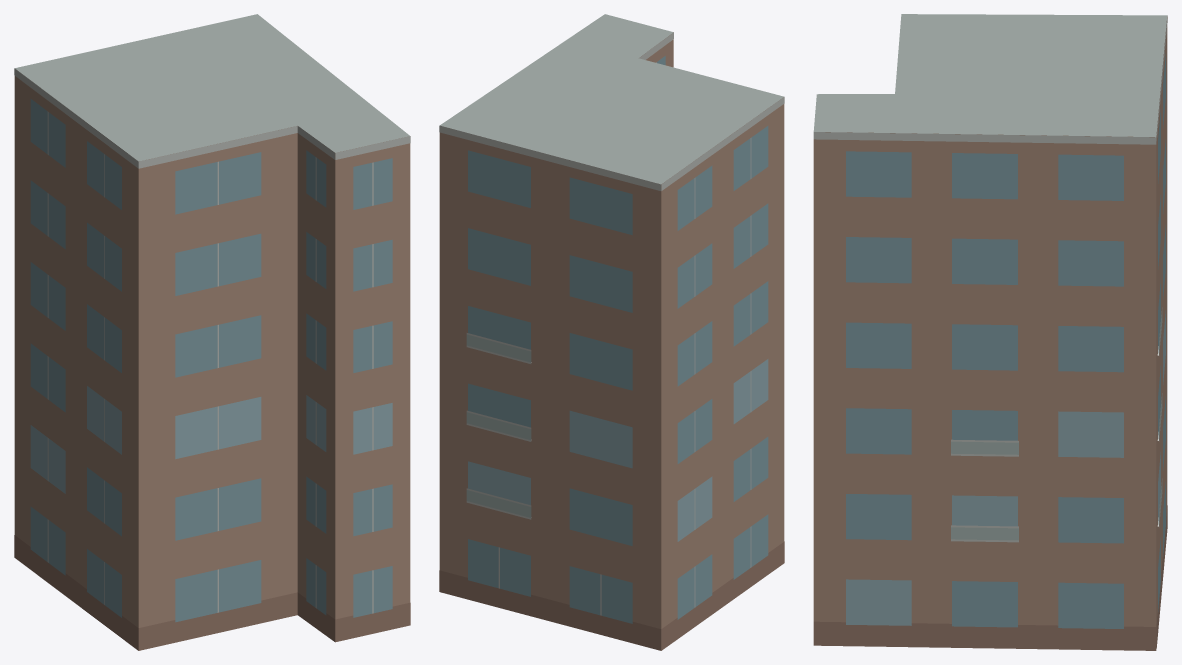
Rendered from survey-upis-32471747.glb.
The picture shows the model from 3 angles, left to right: view 1: azimuth 30°, elevation 25°; view 2: azimuth 150°, elevation 25°; view 3: azimuth 270°, elevation 25°; orthographic projection. The views are drawn at different scales.
Visible parts, largest first — view 1: survey-upis-32471747.tmp; view 2: survey-upis-32471747.tmp; view 3: survey-upis-32471747.tmp.
Boxes of the visible parts, <box> form: survey-upis-32471747.tmp: <box>14,14,410,650</box>; survey-upis-32471747.tmp: <box>439,14,784,650</box>; survey-upis-32471747.tmp: <box>813,14,1167,650</box>.
Size of the model in its own units: 8.49 by 16.5 by 10.3.
